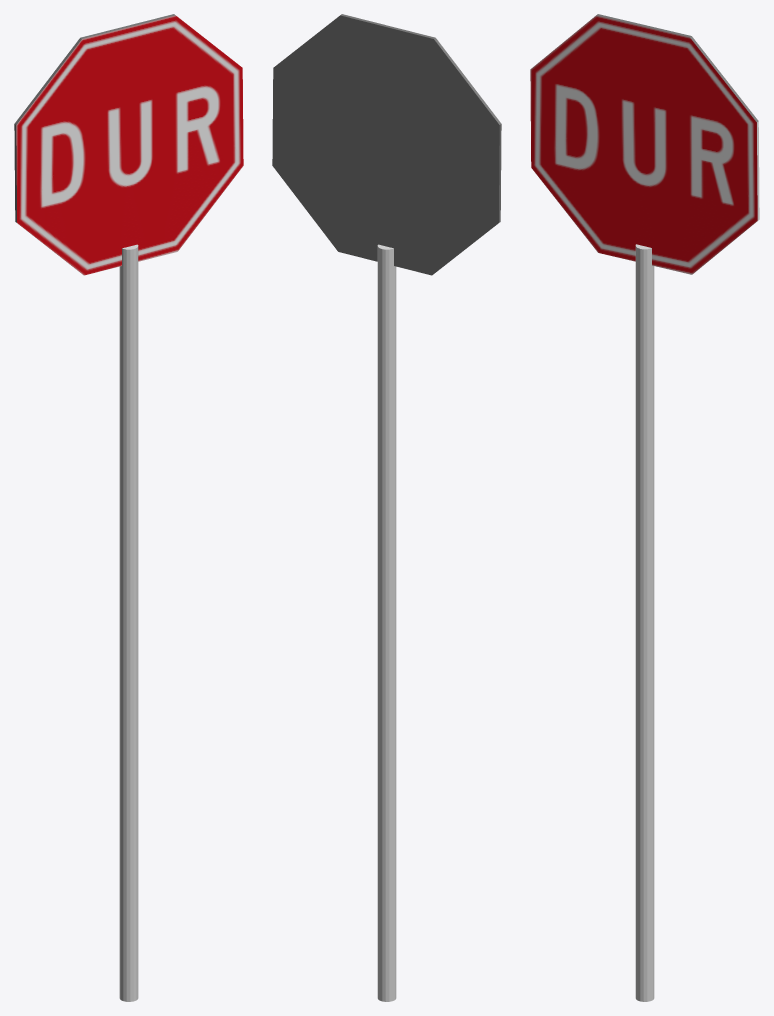
The model's file is dur.fbx.
3 views of the same model, side by side, from view 1: azimuth 30°, elevation 25°; view 2: azimuth 150°, elevation 25°; view 3: azimuth 330°, elevation 25° (orthographic).
Parts seen in each view (by area): view 1: dur; view 2: dur; view 3: dur.
Boxes of the visible parts, x1,y1,x2,y2 form: dur: (14,14,243,1001); dur: (272,14,501,1001); dur: (530,14,759,1001).
Bounding box in the file's own units: 69.54 × 284 × 5.
3 materials, 1 textured.
